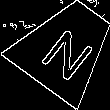N_NE: (34, 15, 99, 79)
